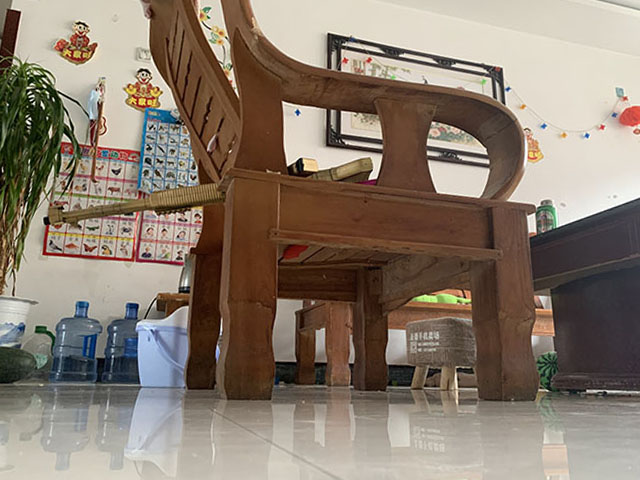sofa: (294, 296, 549, 389)
stool: (140, 1, 542, 402), (404, 315, 476, 393)
trashcan: (134, 304, 191, 388)
